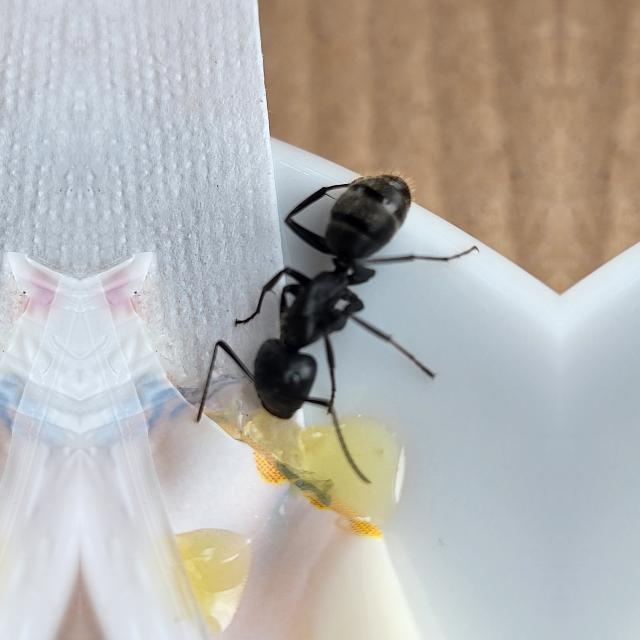Camponotus: (197, 127, 446, 443)
